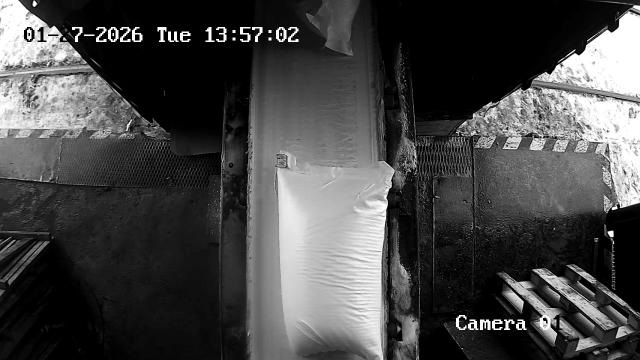bag: (278, 150, 396, 360), (296, 0, 362, 54)
